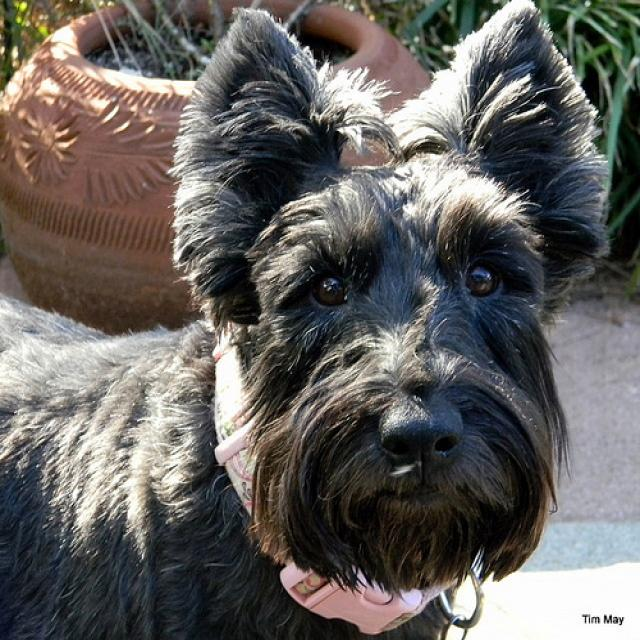dog-scottish_terrier: (1, 1, 621, 637)
